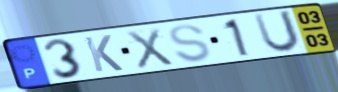1: (221, 17, 252, 59)
3: (43, 37, 85, 80)
K: (82, 33, 126, 74)
S: (168, 23, 213, 64)
U: (251, 8, 304, 54)
X: (124, 27, 177, 71)
